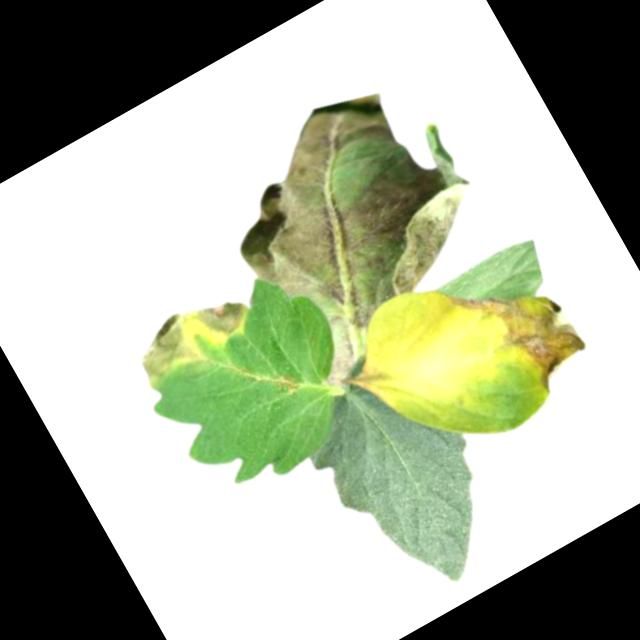Late_blight: (196, 60, 506, 362), (441, 240, 598, 413), (124, 281, 263, 395), (312, 335, 370, 393), (269, 363, 305, 401)
